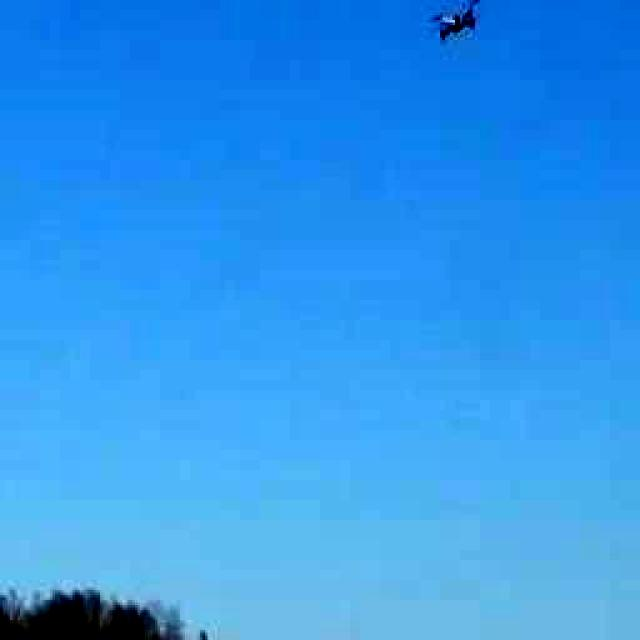bird: (422, 0, 490, 61)
